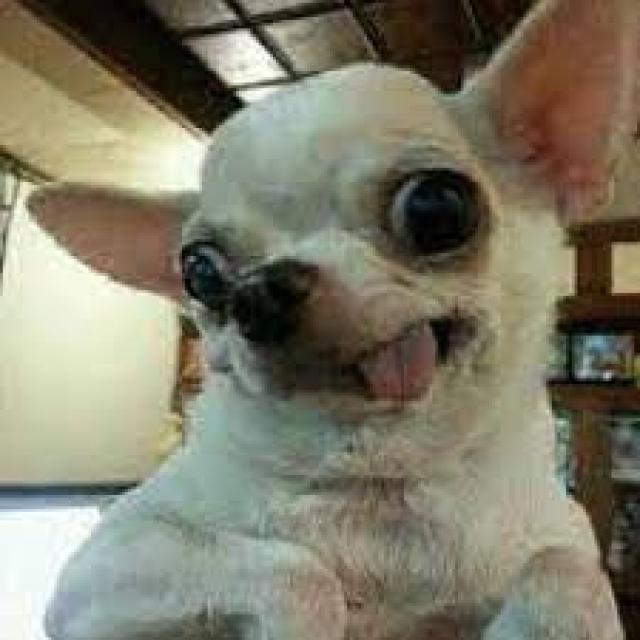Chihuahua: (29, 1, 640, 640)
